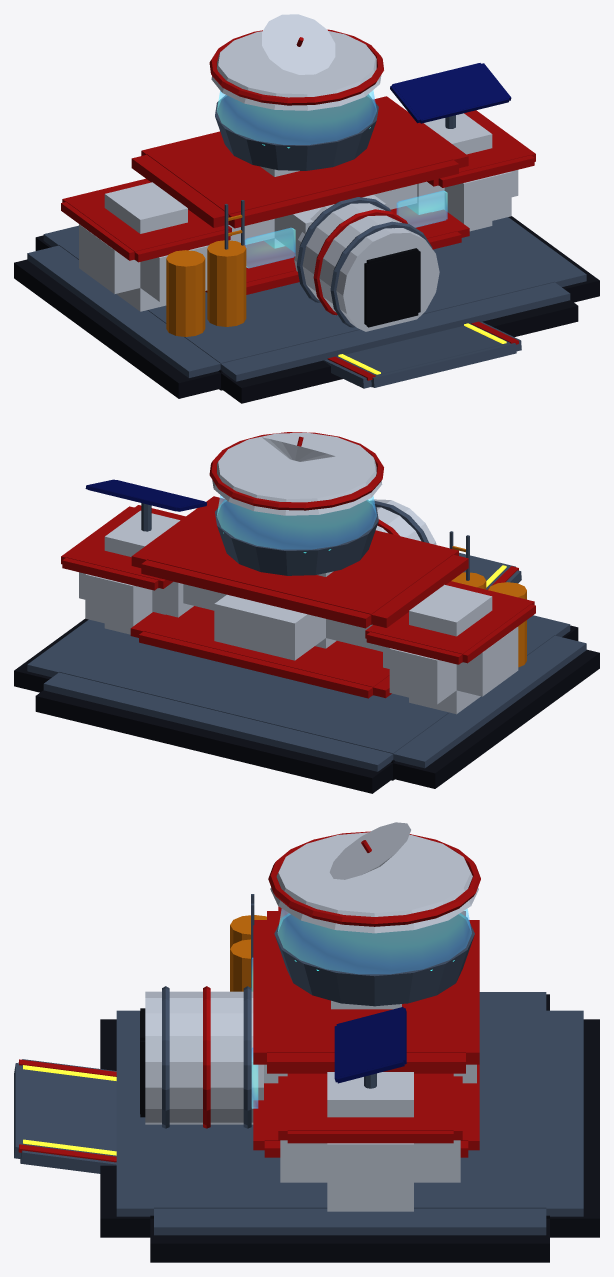
The model's file is moon_modular_base.glb.
3 views of the same model, one above another, from view 1: azimuth 30°, elevation 25°; view 2: azimuth 150°, elevation 25°; view 3: azimuth 270°, elevation 25° (orthographic). The views are drawn at different scales.
Visible parts, largest first — view 1: MoonModularBaseBody, MoonModularBaseGlass, SpinRadar; view 2: MoonModularBaseBody, MoonModularBaseGlass, SpinRadar; view 3: MoonModularBaseBody, MoonModularBaseGlass, SpinRadar, MoonModularBaseGlow.
Part boxes in pixels (x1,y1,x2,y2): MoonModularBaseBody: (14, 29, 599, 403); MoonModularBaseGlass: (217, 90, 447, 268); SpinRadar: (261, 14, 335, 74); MoonModularBaseBody: (14, 432, 599, 793); MoonModularBaseGlass: (217, 495, 376, 549); SpinRadar: (262, 436, 335, 461); MoonModularBaseBody: (14, 831, 599, 1262); MoonModularBaseGlass: (251, 908, 471, 1108); SpinRadar: (329, 822, 410, 879); MoonModularBaseGlow: (23, 960, 454, 1155).
Size of the model in its own units: 14.4 by 8.36 by 14.31.
